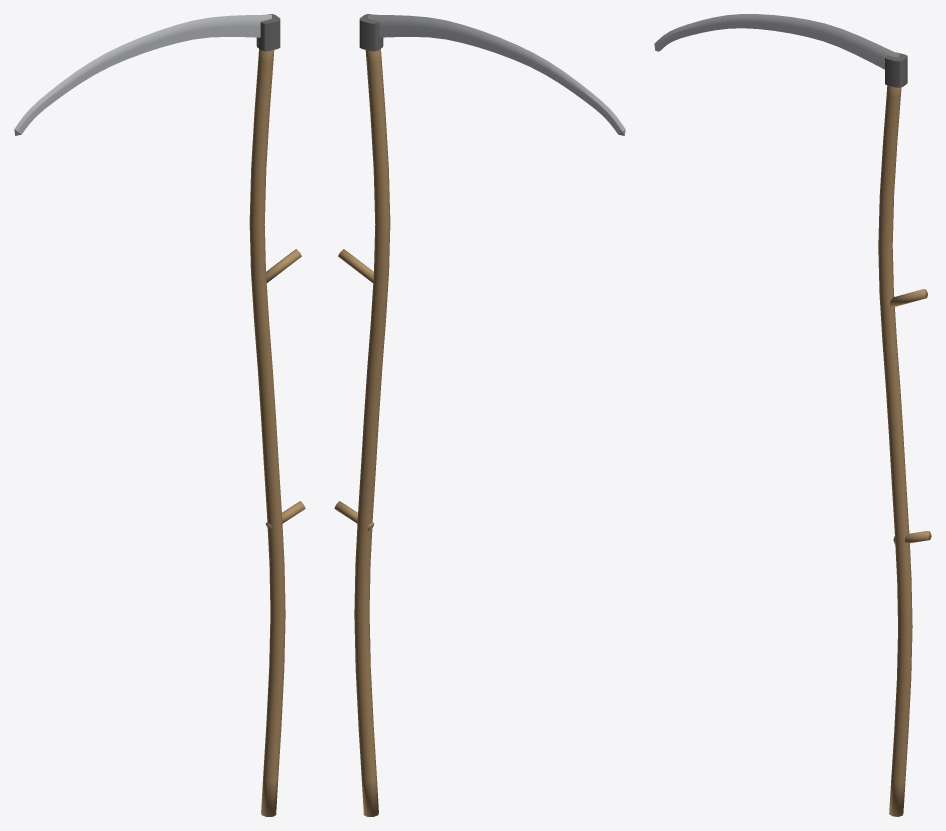
Rendered from scythe.glb.
The picture shows the model from 3 angles, left to right: view 1: azimuth 30°, elevation 25°; view 2: azimuth 150°, elevation 25°; view 3: azimuth 330°, elevation 25°; orthographic projection. The views are drawn at different scales.
Parts seen in each view (by area): view 1: scythe; view 2: scythe; view 3: scythe.
Boxes of the visible parts, <box> form: scythe: <box>14,14,305,816</box>; scythe: <box>334,14,625,816</box>; scythe: <box>654,14,931,816</box>.
Size of the model in its own units: 1.53 by 4.11 by 0.0883.
